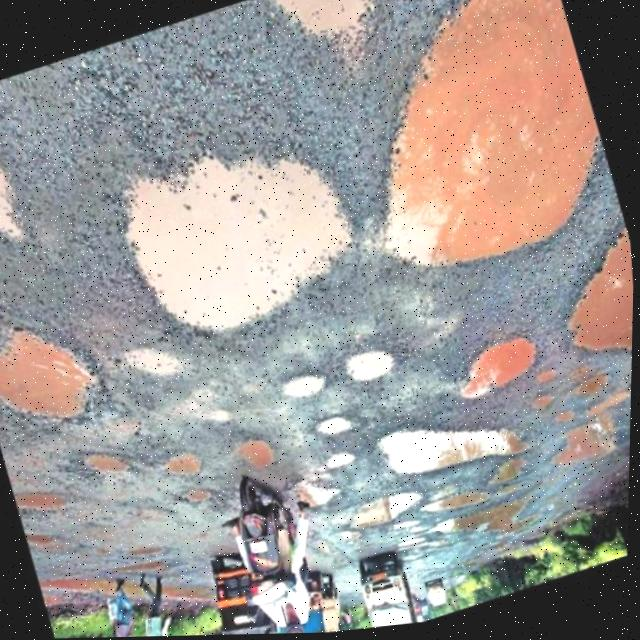Pothole: (292, 0, 640, 343), (85, 79, 397, 391), (0, 280, 128, 464), (240, 0, 434, 115), (531, 220, 636, 398), (431, 304, 569, 429), (425, 472, 574, 569), (324, 299, 429, 410), (0, 78, 52, 285), (331, 472, 442, 561), (112, 324, 208, 425), (259, 341, 345, 428), (543, 413, 633, 489), (217, 411, 293, 493), (285, 464, 358, 537), (415, 474, 503, 533), (12, 467, 84, 530), (481, 438, 551, 502), (23, 512, 84, 585), (158, 428, 218, 499), (78, 433, 142, 499), (305, 400, 368, 459), (574, 377, 633, 439), (172, 476, 229, 533), (119, 531, 181, 572), (131, 551, 187, 595), (570, 365, 619, 415), (316, 443, 366, 484), (417, 530, 465, 571), (529, 361, 569, 401), (525, 388, 564, 426), (549, 402, 583, 444), (404, 547, 438, 580), (395, 525, 433, 553)
